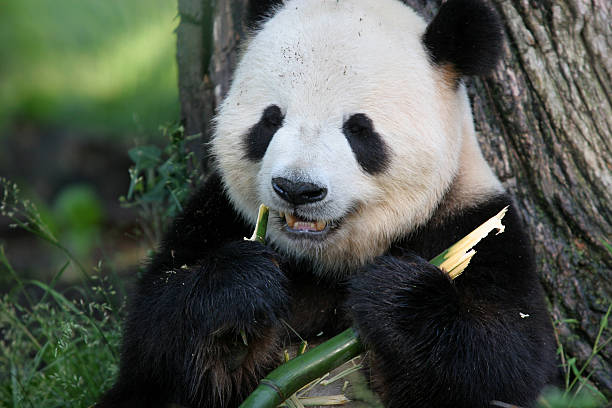panda: (192, 3, 554, 300)
